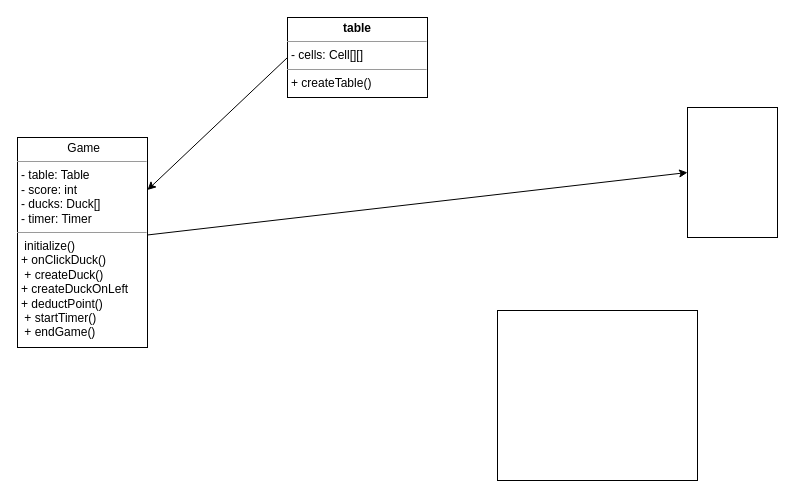
Some shapes in this 795 by 498 pixel diagram are drawn without their labels. Here are the shapes that lost their labels. From the top down, the centre of each, then its label:
[732,172]: timer - time: int - interval: int - game: Game + startTimer()
[597,395]: duck - row: int - col: int - speed: int - interval: int + moveDuck()
